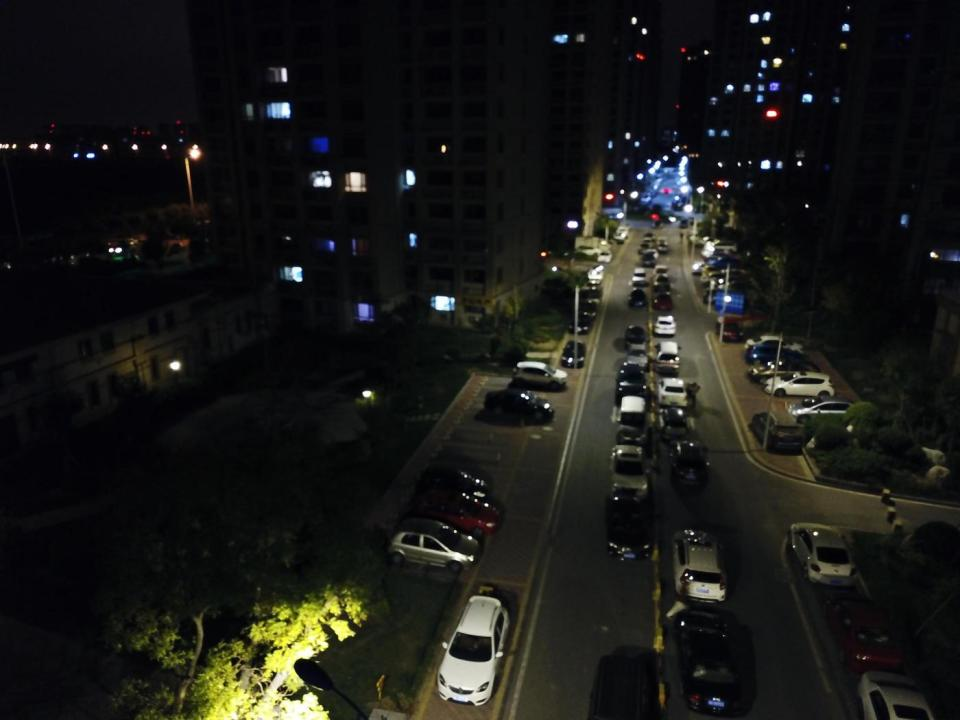car: (434, 592, 510, 708), (675, 604, 746, 717), (818, 590, 900, 679), (784, 517, 862, 589), (387, 520, 482, 576), (669, 524, 730, 607), (409, 488, 501, 539), (604, 494, 660, 574), (852, 670, 936, 720), (606, 442, 654, 498), (420, 466, 494, 502), (786, 394, 868, 426), (482, 387, 555, 422), (664, 437, 710, 491), (751, 408, 806, 450), (760, 368, 836, 398), (747, 357, 822, 383), (508, 359, 571, 387), (658, 374, 700, 408), (618, 358, 652, 400), (741, 332, 805, 354), (746, 345, 809, 366), (657, 405, 691, 442), (712, 317, 746, 341), (624, 340, 649, 368), (562, 340, 588, 366), (712, 273, 749, 290), (570, 309, 594, 335), (625, 322, 648, 349), (653, 313, 679, 336), (650, 290, 674, 313), (716, 281, 751, 296), (701, 268, 732, 284), (628, 285, 647, 311), (576, 295, 602, 314), (702, 285, 728, 304), (705, 255, 736, 270), (579, 243, 605, 258), (652, 271, 671, 290), (583, 281, 603, 299), (629, 264, 646, 285), (643, 248, 660, 268), (587, 268, 606, 284), (691, 259, 709, 274), (657, 234, 671, 253), (654, 264, 670, 280), (597, 251, 615, 265), (641, 230, 656, 244), (616, 222, 629, 237), (636, 241, 650, 254), (678, 216, 689, 229), (650, 218, 664, 228), (613, 230, 626, 240)
truck: (574, 233, 612, 254)
van: (586, 654, 650, 720), (614, 393, 654, 445), (656, 337, 682, 374)
